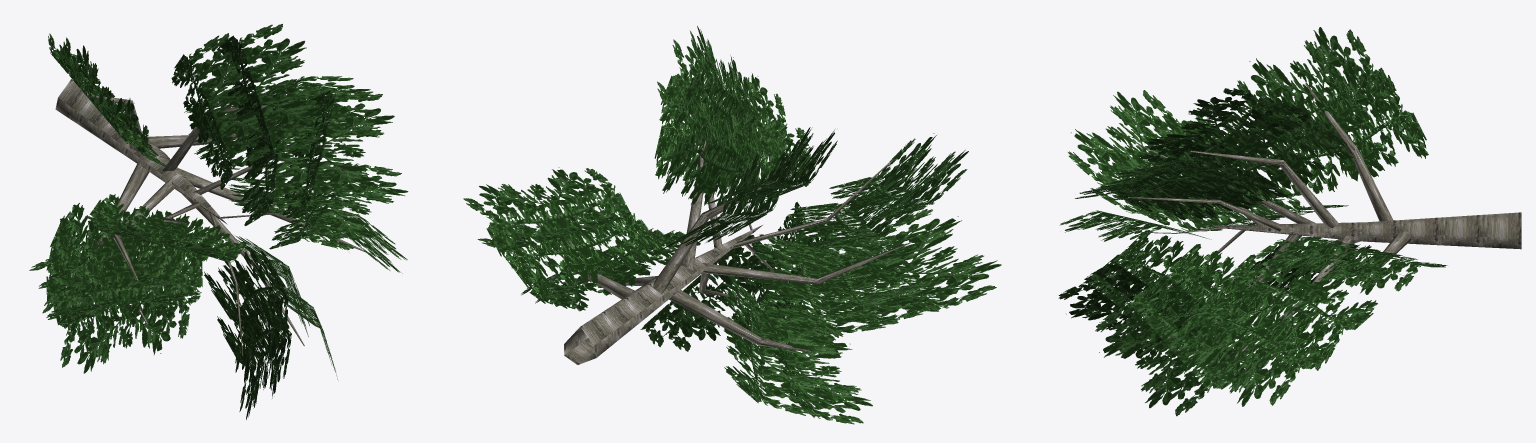
The model's file is cherry_bb1.obj.
3 renders of one model, left to right at view 1: azimuth 30°, elevation 25°; view 2: azimuth 150°, elevation 25°; view 3: azimuth 270°, elevation 25°, orthographic. The views are drawn at different scales.
Parts seen in each view (by area): view 1: plant_pmat3, plant_pmat2, plant_pmat1; view 2: plant_pmat3, plant_pmat2, plant_pmat1; view 3: plant_pmat3, plant_pmat1, plant_pmat2.
Boxes of the visible parts, left/top/right/bottom form: plant_pmat3: left=29, top=24, right=408, bottom=419; plant_pmat2: left=91, top=95, right=369, bottom=355; plant_pmat1: left=55, top=79, right=227, bottom=224; plant_pmat3: left=463, top=26, right=1001, bottom=424; plant_pmat2: left=558, top=84, right=910, bottom=352; plant_pmat1: left=564, top=225, right=762, bottom=364; plant_pmat3: left=1058, top=27, right=1447, bottom=416; plant_pmat1: left=1210, top=212, right=1521, bottom=249; plant_pmat2: left=1128, top=83, right=1410, bottom=363.
Size of the model in its own units: 5.11 by 3.99 by 5.1.
